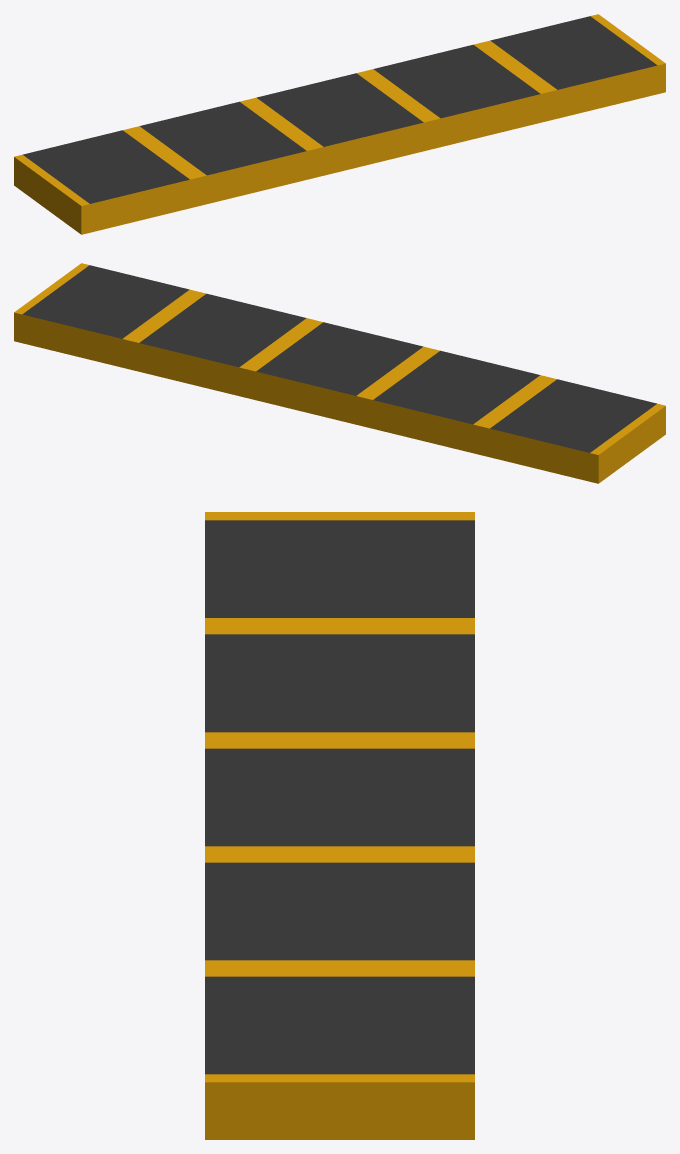
File: floor 1.fbx
3 renders of one model, top to bottom at view 1: azimuth 30°, elevation 25°; view 2: azimuth 150°, elevation 25°; view 3: azimuth 270°, elevation 25°, orthographic. The views are drawn at different scales.
Parts seen in each view (by area): view 1: Cube.009; view 2: Cube.009; view 3: Cube.009.
Boxes of the visible parts, x1=… form: Cube.009: x1=14, y1=14, x2=665, y2=234; Cube.009: x1=14, y1=263, x2=665, y2=483; Cube.009: x1=205, y1=512, x2=474, y2=1139.
Size of the model in its own units: 4640 by 218 by 928.
